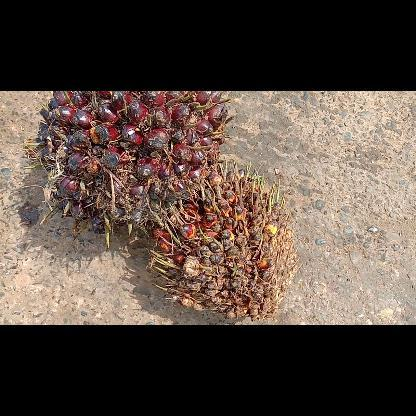Kurang masak: (21, 91, 229, 247)
TBS abnormal: (149, 156, 299, 318)
